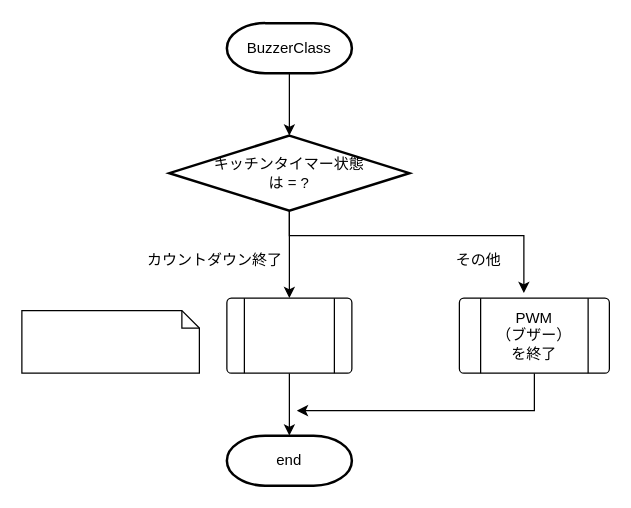
The diagram is 631 pixels wide and 508 high, and some of its shapes have lost their labels. Each missing label, with the centre of its shape:
PWM (ブザー)を開始: (x=289, y=335)
パターンに合わせて 鳴動する: (x=110, y=341)
